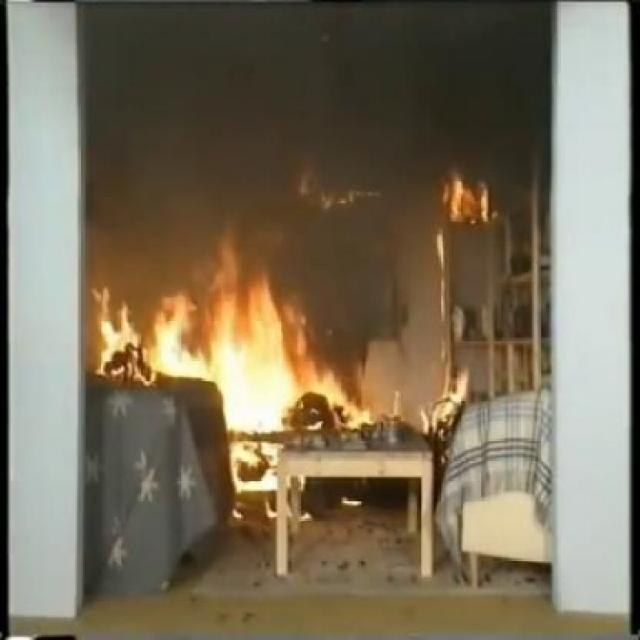fire: (90, 264, 368, 492), (442, 178, 493, 231)
smoke: (86, 12, 417, 352), (392, 22, 526, 200)
